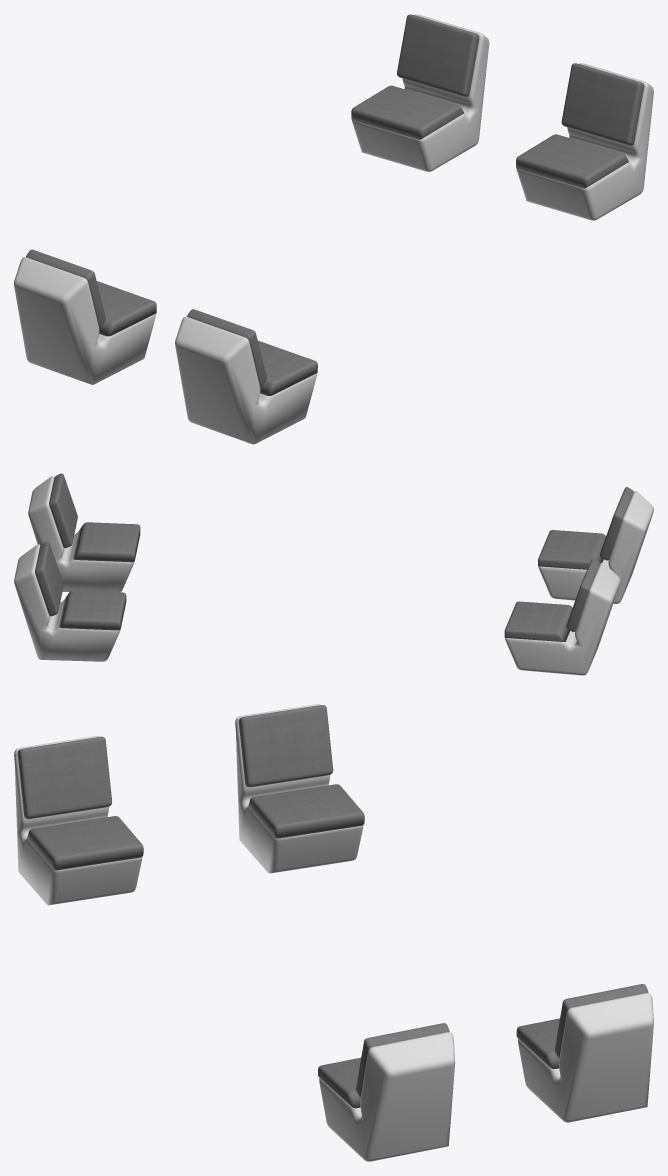
Rendered from chair_0404.fbx.
3 renders of one model, top to bottom at view 1: azimuth 30°, elevation 25°; view 2: azimuth 150°, elevation 25°; view 3: azimuth 270°, elevation 25°, orthographic. The views are drawn at different scales.
Visible parts, largest first — view 1: chair_006, chair_002, chair_003, chair_007; view 2: chair_006, chair_007, chair_002, chair_003; view 3: chair_007, chair_003, chair_006, chair_002.
Boxes of the visible parts, x1,y1,x2,y2 form: chair_006: (351, 14, 489, 171); chair_002: (516, 63, 653, 220); chair_003: (175, 309, 317, 444); chair_007: (14, 249, 156, 384); chair_006: (14, 541, 126, 661); chair_007: (504, 558, 620, 675); chair_002: (28, 473, 140, 592); chair_003: (538, 487, 653, 603); chair_007: (235, 704, 364, 873); chair_003: (14, 736, 143, 905); chair_006: (516, 984, 653, 1122); chair_002: (318, 1023, 455, 1161).
Bounding box in the file's own units: 6398 × 1016 × 4794.
Materials: 2 (1 with a texture image).
